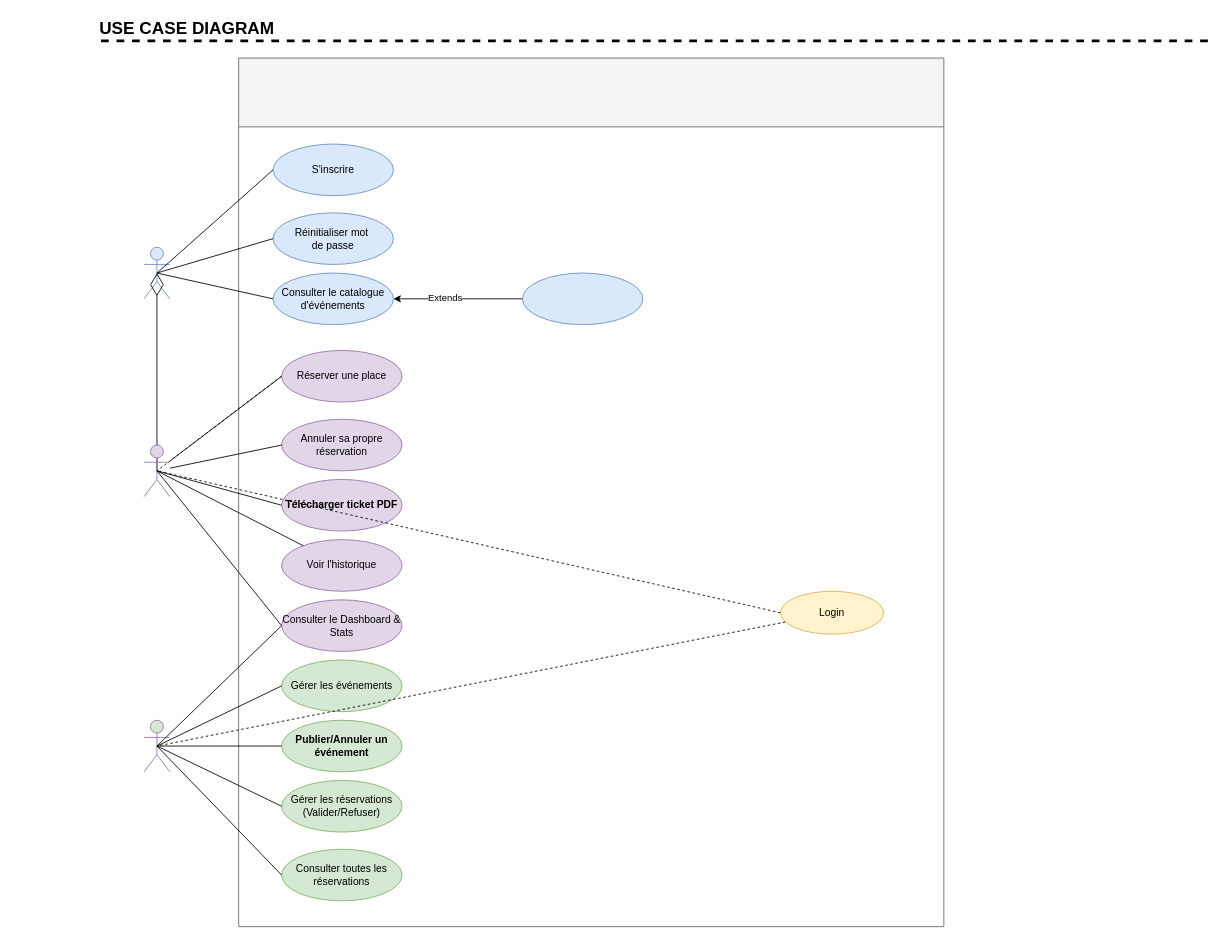
Image size: 1227x942. Some labels were removed from this diagram. Here are the shapes that lost their labels. From the top down, the box of each, then its label:
(143, 246, 170, 299): Guest
(522, 272, 643, 325): Consulter détails événement
(143, 444, 170, 497): Participant
(238, 57, 944, 927): Events Management System
(143, 719, 170, 772): Admin
